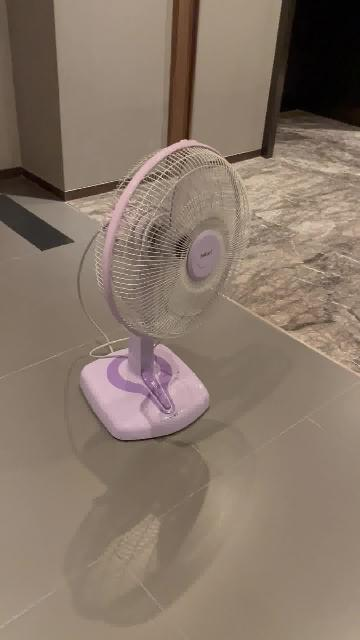Fan: (79, 140, 250, 441)
